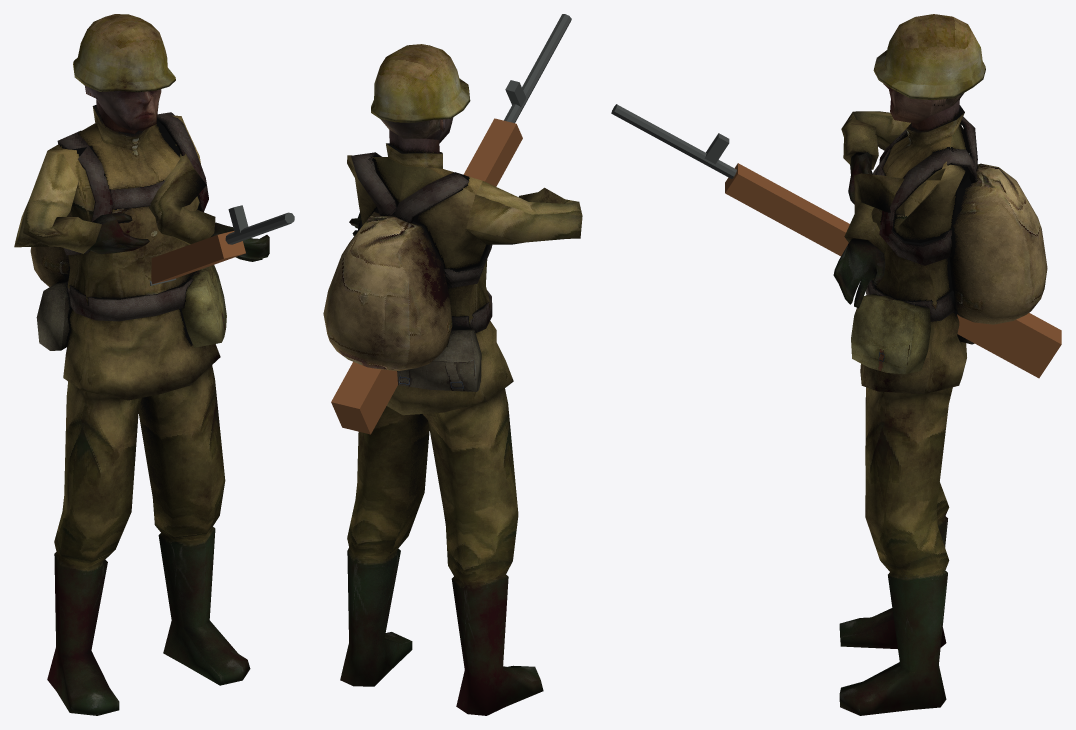
Rendered from soviet_ww2_soldier_death_00.glb.
The picture shows the model from 3 angles, left to right: view 1: azimuth 30°, elevation 25°; view 2: azimuth 150°, elevation 25°; view 3: azimuth 270°, elevation 25°; orthographic projection.
Visible parts, largest first — view 1: final_Static, SovietRifle_Generated; view 2: final_Static, SovietRifle_Generated; view 3: final_Static, SovietRifle_Generated.
Part boxes in pixels (x1,y1,x2,y2): final_Static: [14, 14, 269, 715]; SovietRifle_Generated: [149, 205, 294, 285]; final_Static: [323, 44, 582, 715]; SovietRifle_Generated: [331, 14, 571, 434]; final_Static: [833, 14, 1047, 715]; SovietRifle_Generated: [611, 104, 1061, 378].
Bounding box in the file's own units: 0.6696 × 1.73 × 1.08.
3 materials, 1 textured.
